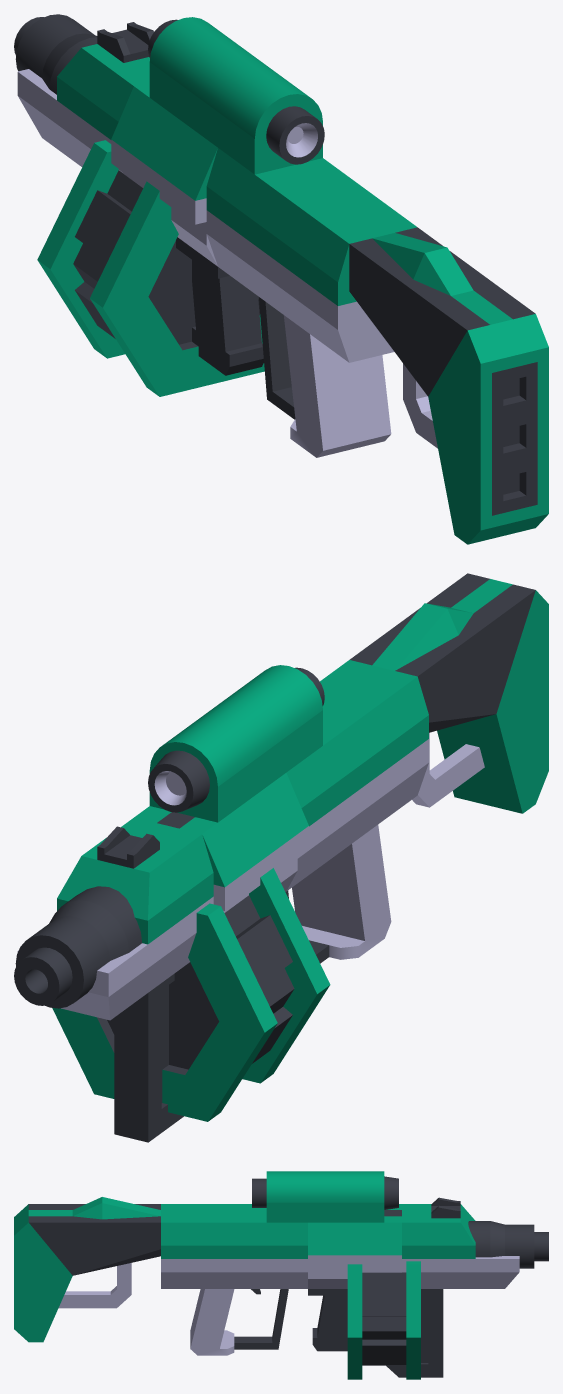
Rendered from lmg.glb.
3 views of the same model, one above another, from view 1: azimuth 30°, elevation 25°; view 2: azimuth 150°, elevation 25°; view 3: azimuth 270°, elevation 25° (orthographic). The views are drawn at different scales.
Parts seen in each view (by area): view 1: stock_assault, mediumBlaster_handleGuardSmall, clipBarrel, scope_small, largeBlaster_handleGuard, mediumBlaster_barrelLarge, detailTargetSight; view 2: stock_assault, clipBarrel, mediumBlaster_handleGuardSmall, mediumBlaster_barrelLarge, scope_small, largeBlaster_handleGuard, clip_small, detailTargetSight; view 3: mediumBlaster_handleGuardSmall, stock_assault, mediumBlaster_barrelLarge, clipBarrel, largeBlaster_handleGuard, scope_small, clip_small, detailTargetSight.
Boxes of the visible parts, left/top/right/bottom form: stock_assault: left=349, top=227, right=548, bottom=544; mediumBlaster_handleGuardSmall: left=206, top=148, right=416, bottom=457; clipBarrel: left=37, top=140, right=264, bottom=396; scope_small: left=148, top=17, right=324, bottom=174; largeBlaster_handleGuard: left=111, top=82, right=263, bottom=375; mediumBlaster_barrelLarge: left=14, top=14, right=149, bottom=172; detailTargetSight: left=97, top=22, right=153, bottom=62; stock_assault: left=349, top=573, right=548, bottom=813; clipBarrel: left=52, top=868, right=330, bottom=1121; mediumBlaster_handleGuardSmall: left=286, top=660, right=428, bottom=963; mediumBlaster_barrelLarge: left=14, top=817, right=213, bottom=1020; scope_small: left=148, top=665, right=324, bottom=822; largeBlaster_handleGuard: left=134, top=773, right=308, bottom=912; clip_small: left=114, top=973, right=183, bottom=1142; detailTargetSight: left=97, top=826, right=159, bottom=868; mediumBlaster_handleGuardSmall: left=161, top=1204, right=307, bottom=1355; stock_assault: left=14, top=1197, right=160, bottom=1342; mediumBlaster_barrelLarge: left=402, top=1204, right=548, bottom=1288; clipBarrel: left=347, top=1261, right=420, bottom=1379; largeBlaster_handleGuard: left=308, top=1204, right=401, bottom=1351; scope_small: left=252, top=1171, right=398, bottom=1222; clip_small: left=386, top=1289, right=443, bottom=1377; detailTargetSight: left=431, top=1197, right=460, bottom=1218.
Bounding box in the file's own units: 1 × 1.5 × 3.64.
